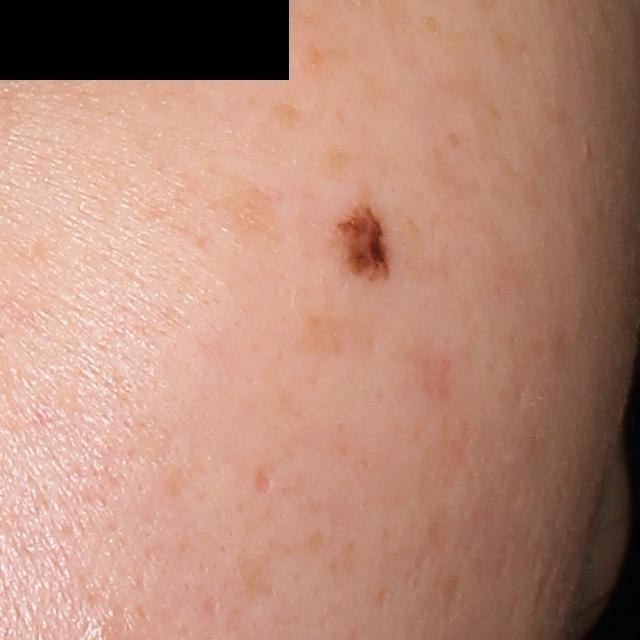melasma: (293, 38, 390, 107), (232, 186, 287, 241), (319, 140, 362, 183), (268, 97, 303, 132), (423, 16, 442, 39), (446, 129, 462, 149)
nevus: (338, 205, 392, 278)
